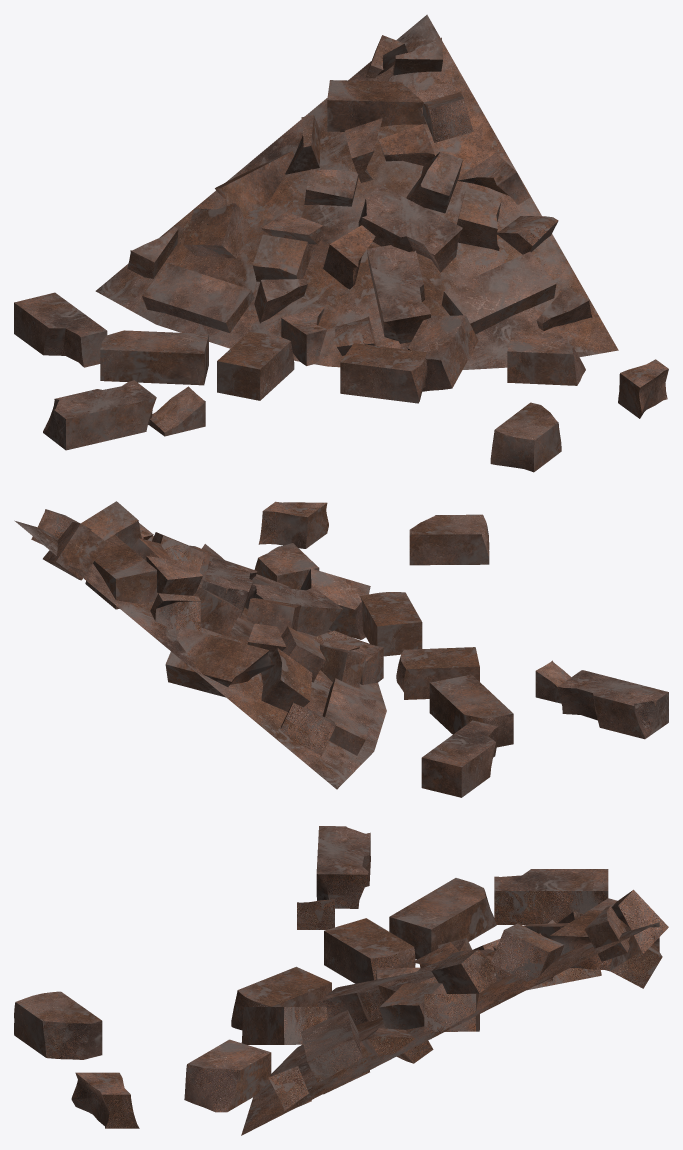
The model's file is DebrisBricks01_2.FBX.
3 renders of one model, top to bottom at view 1: azimuth 30°, elevation 25°; view 2: azimuth 150°, elevation 25°; view 3: azimuth 270°, elevation 25°, orthographic. The views are drawn at different scales.
Visible parts, largest first — view 1: DebrisBricks01; view 2: DebrisBricks01; view 3: DebrisBricks01.
Part boxes in pixels (bbox=[...]): DebrisBricks01: bbox=[14, 14, 668, 472]; DebrisBricks01: bbox=[14, 501, 668, 797]; DebrisBricks01: bbox=[14, 826, 668, 1135].
Size of the model in its own units: 157 by 59.86 by 158.
